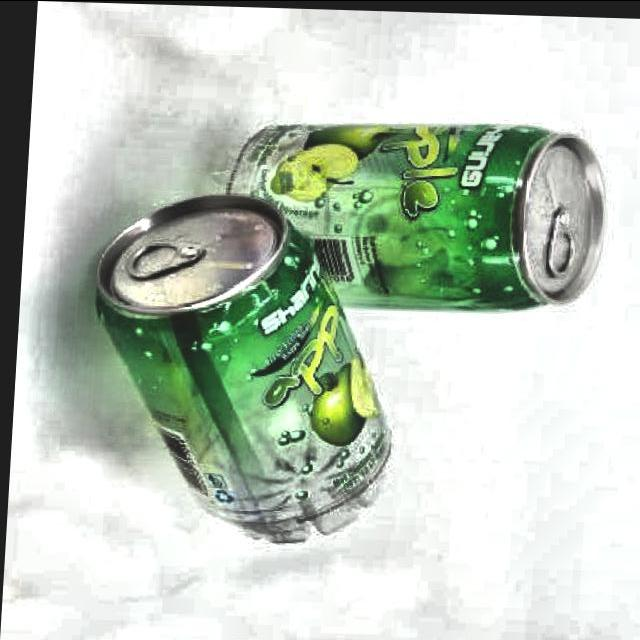litter: (74, 188, 412, 553), (204, 106, 616, 320)
